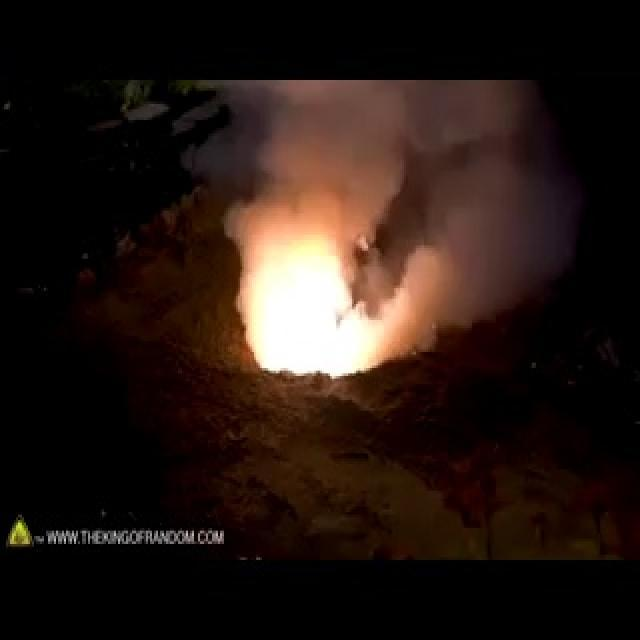fire: (251, 214, 415, 402)
